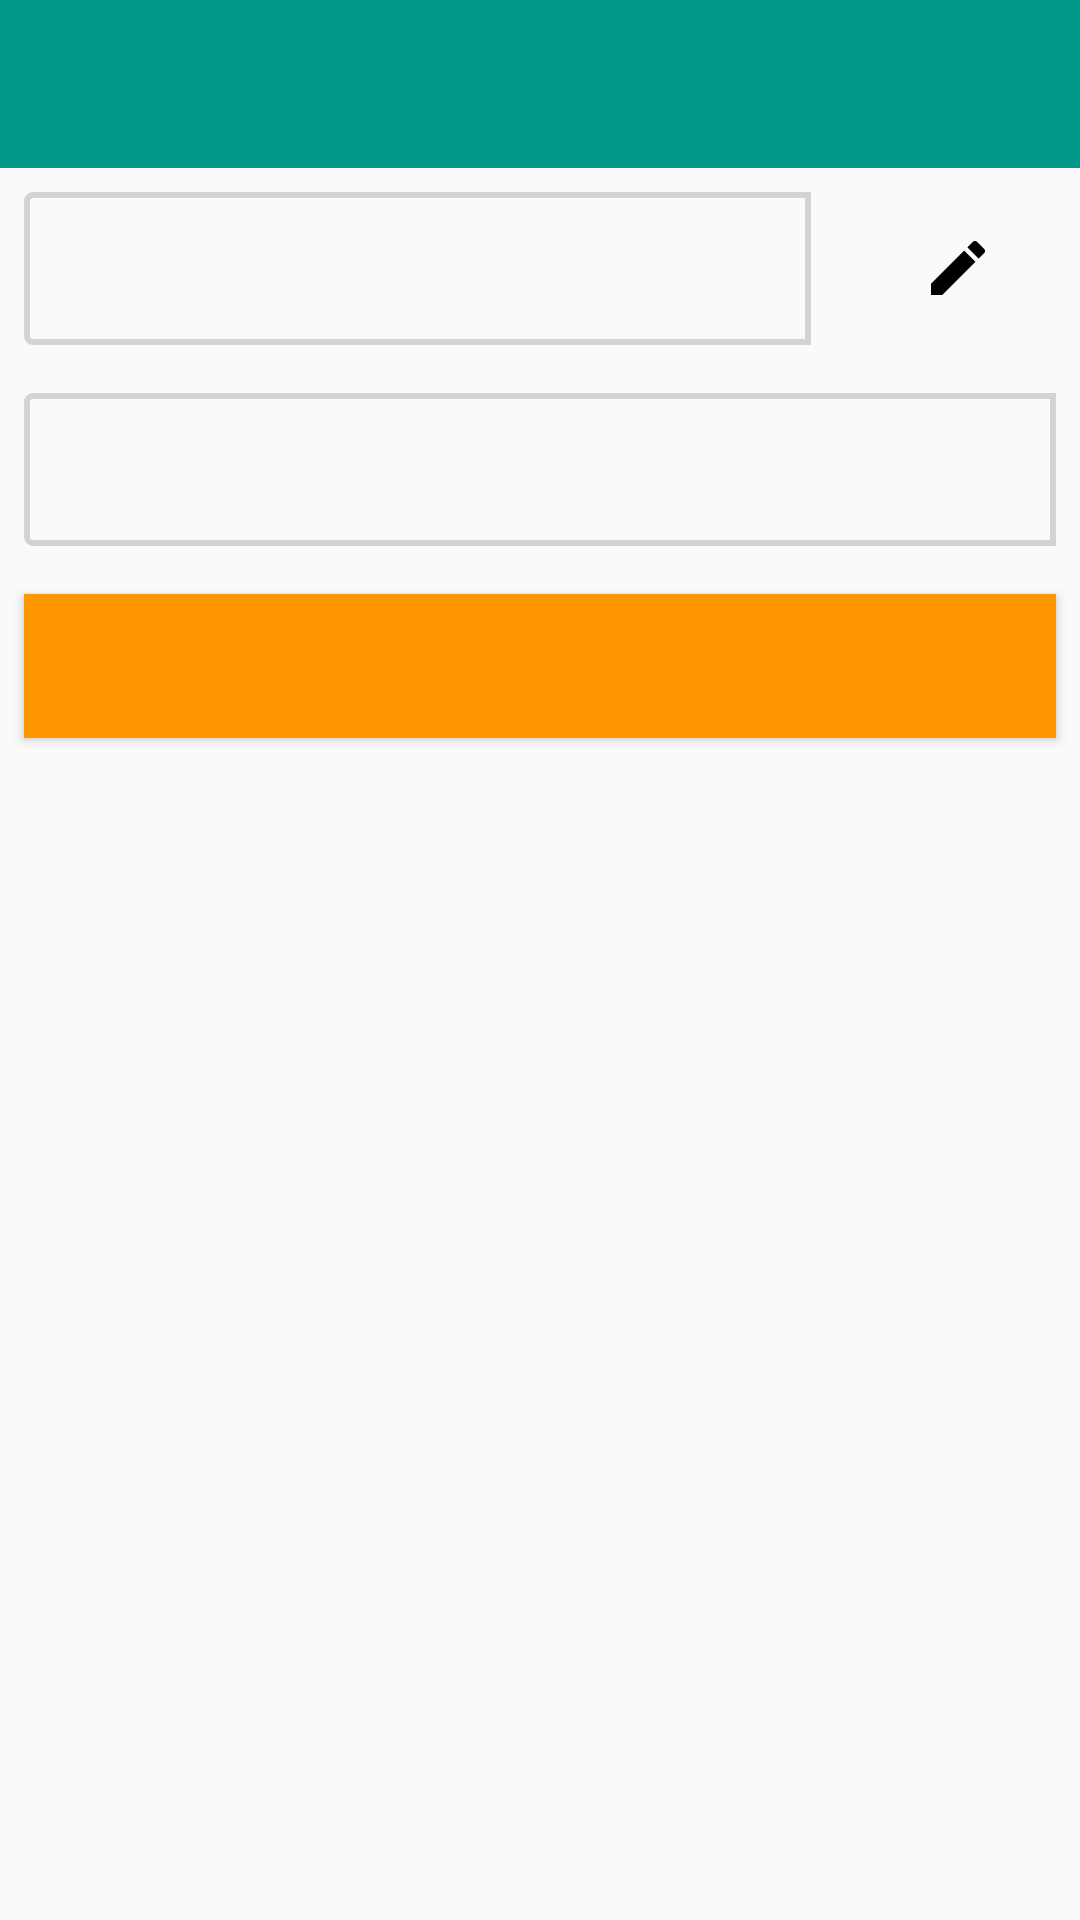

Icon click points for this 1080 x 1920 phone screenshot, format (x,y):
edit: (958,268)
